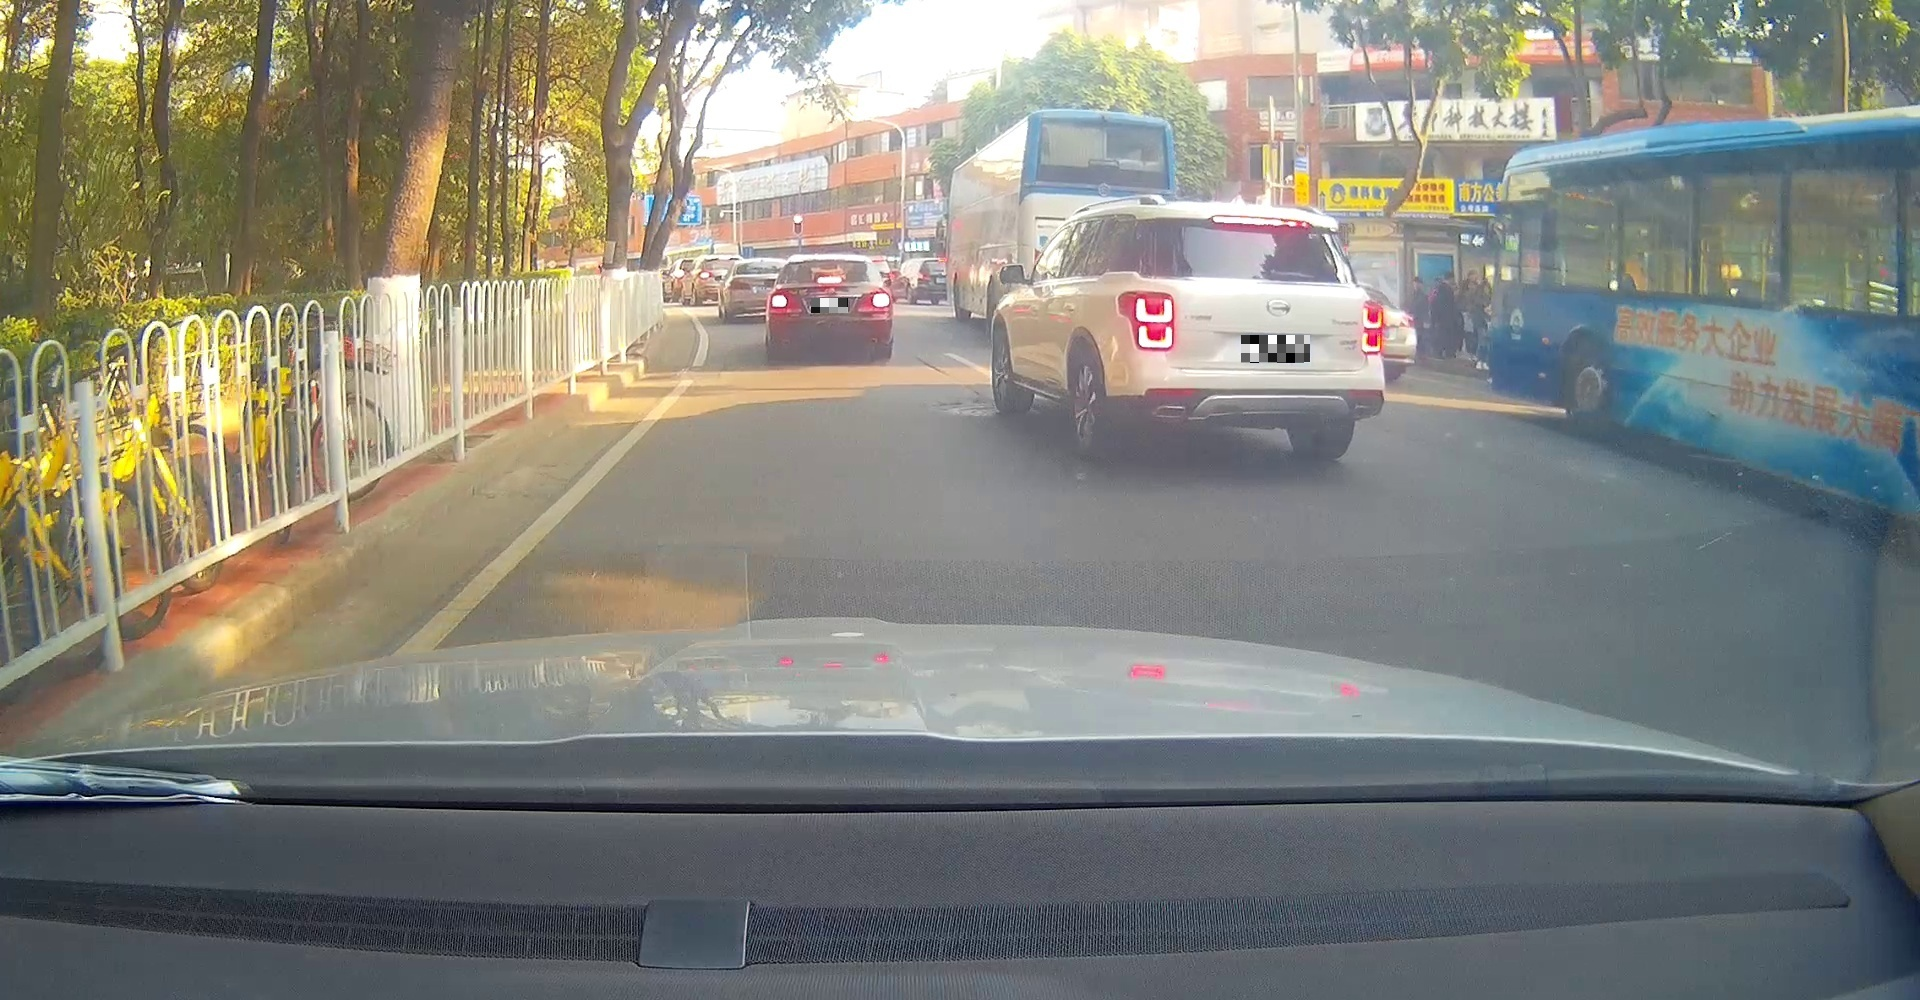L_light: (1116, 291, 1175, 350), (767, 291, 803, 312)
R_light: (1360, 298, 1384, 354), (857, 291, 891, 313)
T_light: (1211, 214, 1310, 228), (817, 275, 842, 283)
day-brake: (1114, 201, 1385, 459), (766, 254, 893, 360)
plate_1: (811, 298, 848, 313)
plate_2: (1241, 335, 1310, 363)
